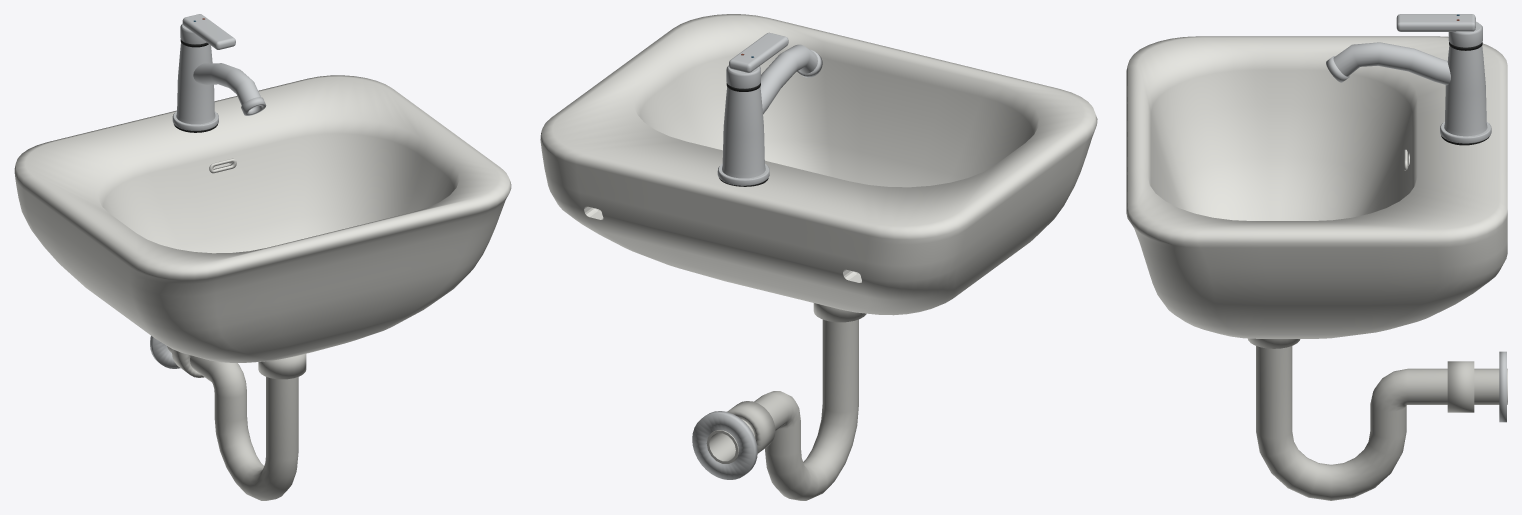
The model's file is BathroomSink_LOD0.fbx.
3 views of the same model, side by side, from view 1: azimuth 30°, elevation 25°; view 2: azimuth 150°, elevation 25°; view 3: azimuth 270°, elevation 25° (orthographic). The views are drawn at different scales.
Visible parts, largest first — view 1: Body_LOD0, MixerLever_LOD0; view 2: Body_LOD0, MixerLever_LOD0; view 3: Body_LOD0, MixerLever_LOD0.
Boxes of the visible parts, x1,y1,x2,y2 form: Body_LOD0: (14,39,511,500); MixerLever_LOD0: (180,14,235,49); Body_LOD0: (540,14,1097,500); MixerLever_LOD0: (726,32,788,88); Body_LOD0: (1126,36,1507,500); MixerLever_LOD0: (1396,14,1482,47).
Bounding box in the file's own units: 0.5 × 0.5572 × 0.4.
